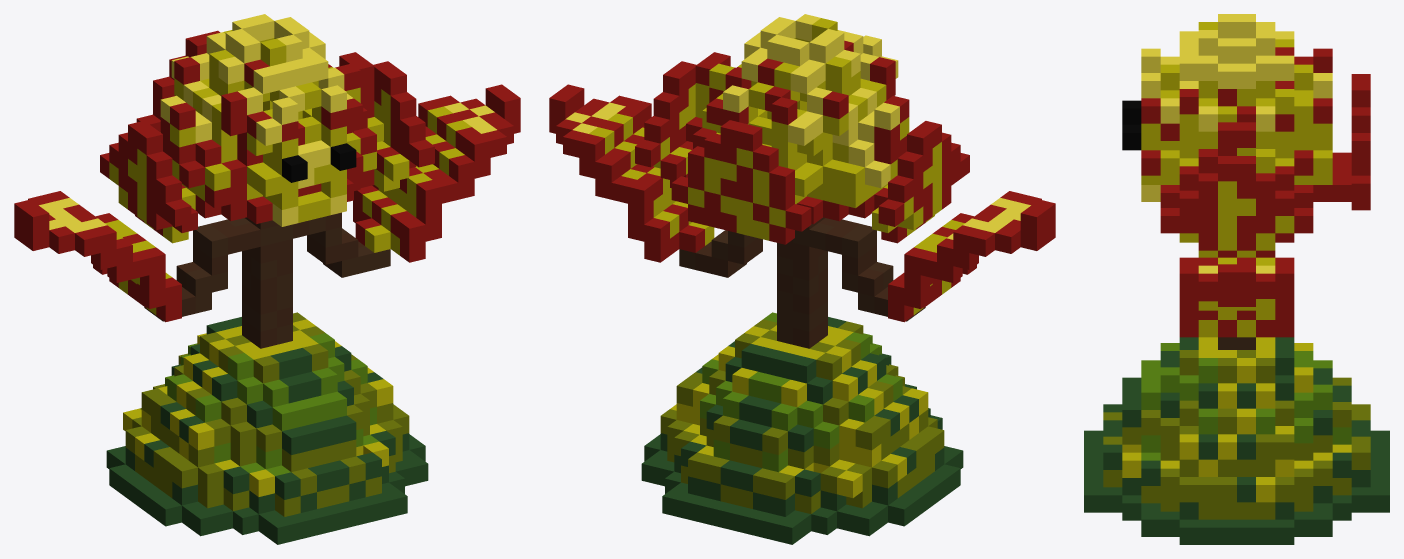
The model's file is Isabella_Vega_Heredia_fase_4.obj.
3 renders of one model, left to right at view 1: azimuth 30°, elevation 25°; view 2: azimuth 150°, elevation 25°; view 3: azimuth 270°, elevation 25°, orthographic.
Visible parts, largest first — view 1: Isabella_Vega_Heredia_fase_4; view 2: Isabella_Vega_Heredia_fase_4; view 3: Isabella_Vega_Heredia_fase_4.
Boxes of the visible parts, <box> form: Isabella_Vega_Heredia_fase_4: <box>14,14,520,544</box>; Isabella_Vega_Heredia_fase_4: <box>549,14,1055,544</box>; Isabella_Vega_Heredia_fase_4: <box>1084,14,1389,544</box>.
Bounding box in the file's own units: 30 × 26 × 16.
Materials: 1 (1 with a texture image).
